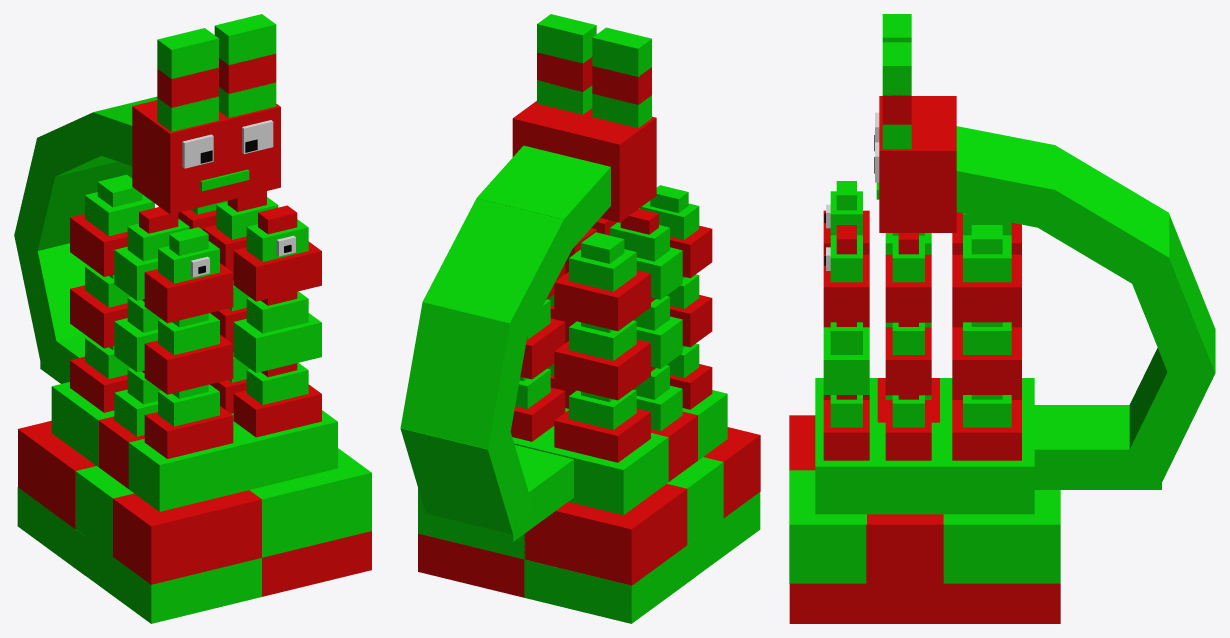
3 views of the same model, side by side, from view 1: azimuth 30°, elevation 25°; view 2: azimuth 150°, elevation 25°; view 3: azimuth 270°, elevation 25° (orthographic). The views are drawn at different scales.
Parts seen in each view (by area): view 1: pCube304, pCube2996, pCube413, pCube302, pCube971, pCube2993, pCube2992, pCube975, pCube306, pCube412, pCube952, pCube934 (+48 smaller); view 2: pCube2993, pCube2995, pCube306, pCube2992, pCube2996, pCube2994, pCube303, pCube973, pCube2991, pCube411, pCube954, pCube936 (+34 smaller); view 3: pCube2995, pCube2996, pCube410, pCube2994, pCube2991, pCube2992, pCube2993, pCube413, pCube974, pCube412, pCube411, pCube414 (+33 smaller).
Part boxes in pixels (left/top/right/bottom): pCube304: left=113, top=490, right=261, bottom=584; pCube2996: left=132, top=100, right=280, bottom=214; pCube413: left=249, top=448, right=371, bottom=557; pCube302: left=85, top=536, right=261, bottom=623; pCube971: left=128, top=433, right=249, bottom=511; pCube2993: left=14, top=138, right=132, bottom=261; pCube2992: left=14, top=233, right=87, bottom=365; pCube975: left=233, top=410, right=337, bottom=489; pCube306: left=18, top=421, right=95, bottom=528; pCube412: left=262, top=531, right=371, bottom=596; pCube952: left=144, top=263, right=233, bottom=323; pCube934: left=144, top=334, right=233, bottom=394; pCube2993: left=400, top=301, right=529, bottom=449; pCube2995: left=422, top=198, right=575, bottom=334; pCube306: left=524, top=484, right=687, bottom=585; pCube2992: left=400, top=420, right=532, bottom=534; pCube2996: left=512, top=101, right=656, bottom=222; pCube2994: left=477, top=145, right=610, bottom=252; pCube303: left=524, top=538, right=696, bottom=623; pCube973: left=537, top=433, right=668, bottom=515; pCube2991: left=425, top=445, right=573, bottom=541; pCube411: left=418, top=533, right=524, bottom=597; pCube954: left=554, top=270, right=650, bottom=331; pCube936: left=554, top=339, right=650, bottom=400; pCube2995: left=1032, top=146, right=1169, bottom=287; pCube2996: left=879, top=96, right=956, bottom=232; pCube410: left=943, top=490, right=1060, bottom=583; pCube2994: left=956, top=126, right=1055, bottom=229; pCube2991: left=1034, top=405, right=1161, bottom=489; pCube2992: left=1120, top=328, right=1215, bottom=486; pCube2993: left=1127, top=214, right=1214, bottom=385; pCube413: left=789, top=470, right=866, bottom=583; pCube974: left=940, top=422, right=1034, bottom=514; pCube412: left=789, top=583, right=926, bottom=623; pCube411: left=926, top=583, right=1060, bottom=623; pCube414: left=866, top=514, right=943, bottom=583.
Size of the model in its own units: 7.25 by 16.45 by 11.91.
